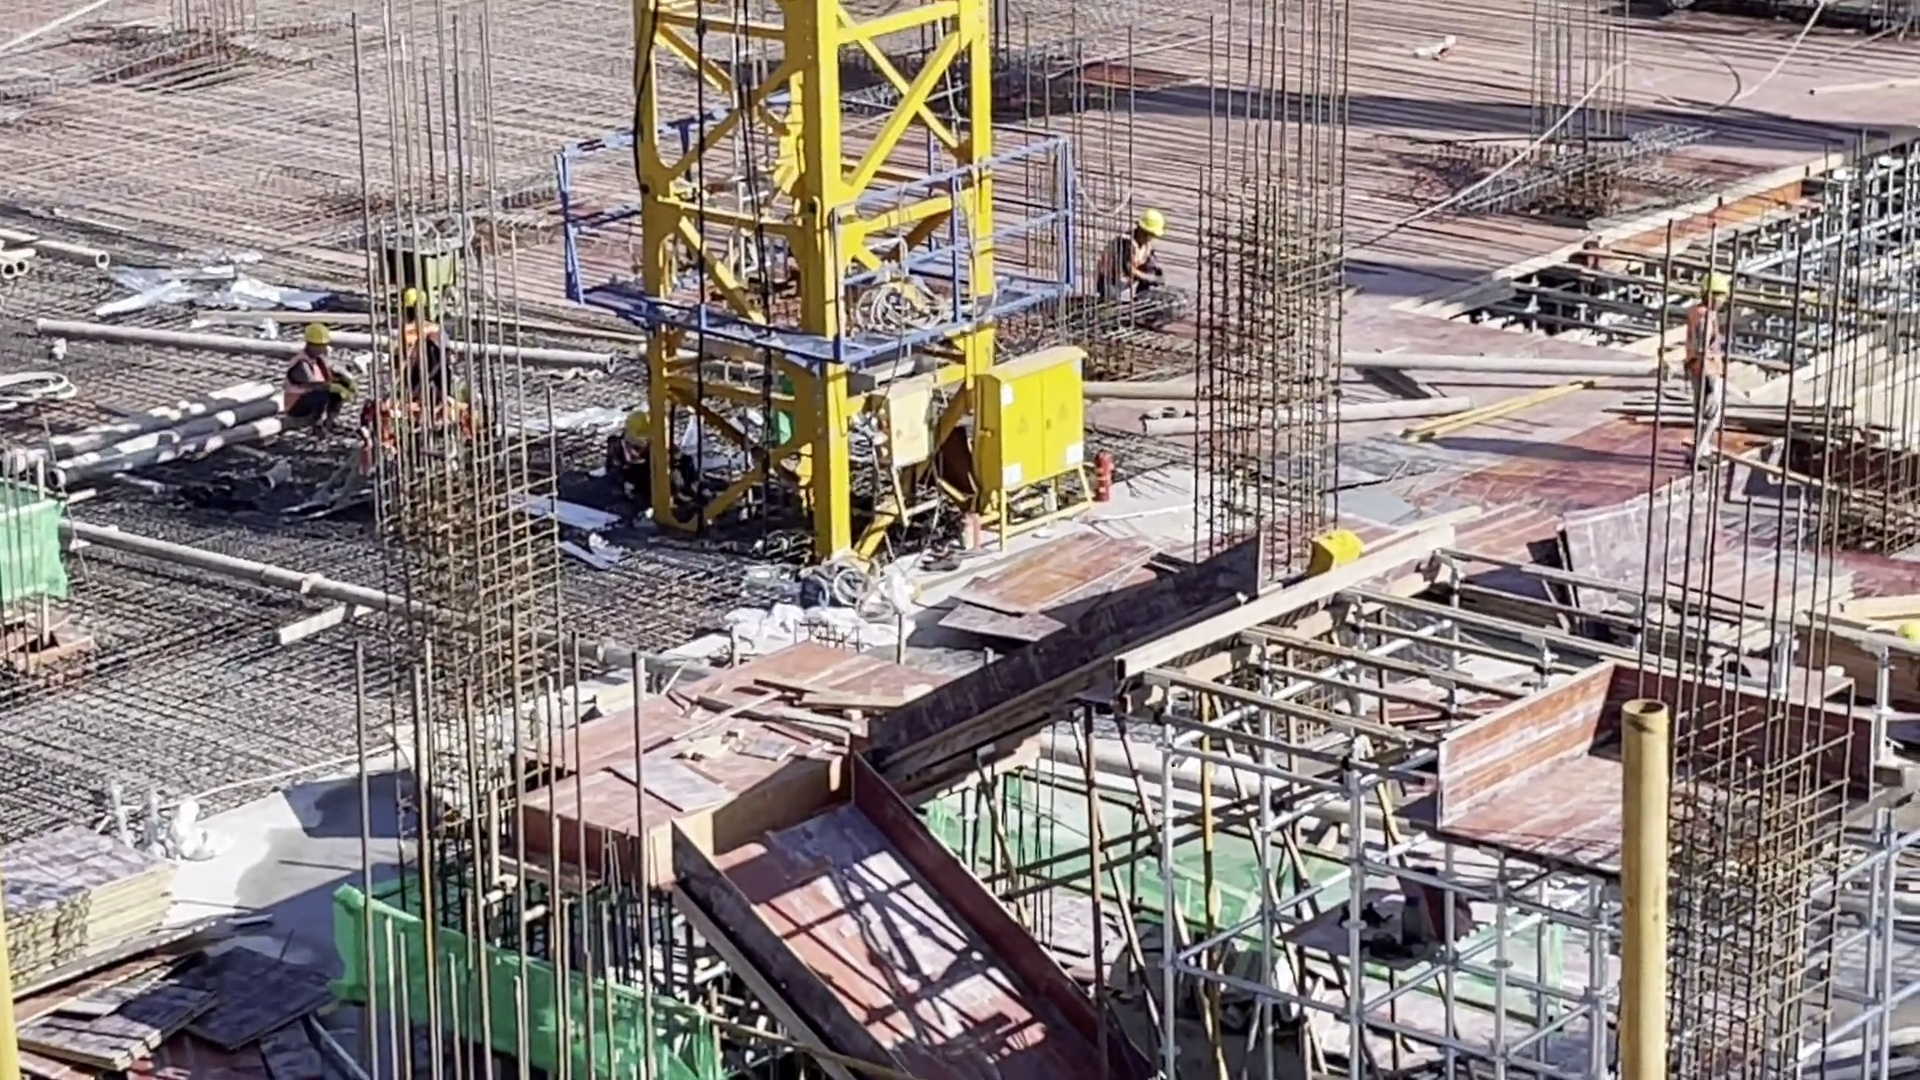board: (16, 941, 358, 1079), (1, 825, 177, 996)
ebox: (968, 350, 1093, 544), (870, 369, 946, 532), (1306, 522, 1368, 572)
helmet: (296, 322, 336, 350), (1131, 205, 1165, 239), (622, 406, 650, 442), (1700, 269, 1730, 294)
person: (1675, 258, 1735, 473), (283, 321, 368, 437), (1091, 207, 1170, 303), (605, 401, 653, 514)
vest: (1097, 234, 1158, 300), (1678, 312, 1726, 388), (283, 357, 325, 423)
